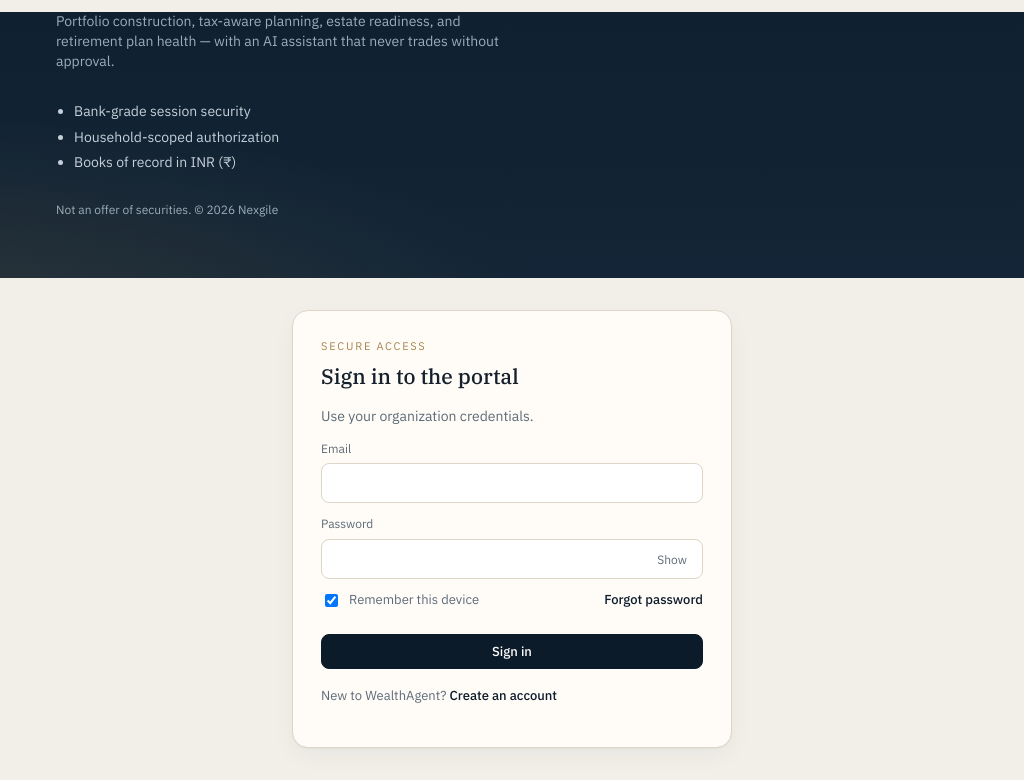
Scenario: login rendering and validation › shows a friendly error on failed login
(page scrolled)
In the field labelled "Email": (512, 484) [321, 464, 703, 504], type "a@b.com"
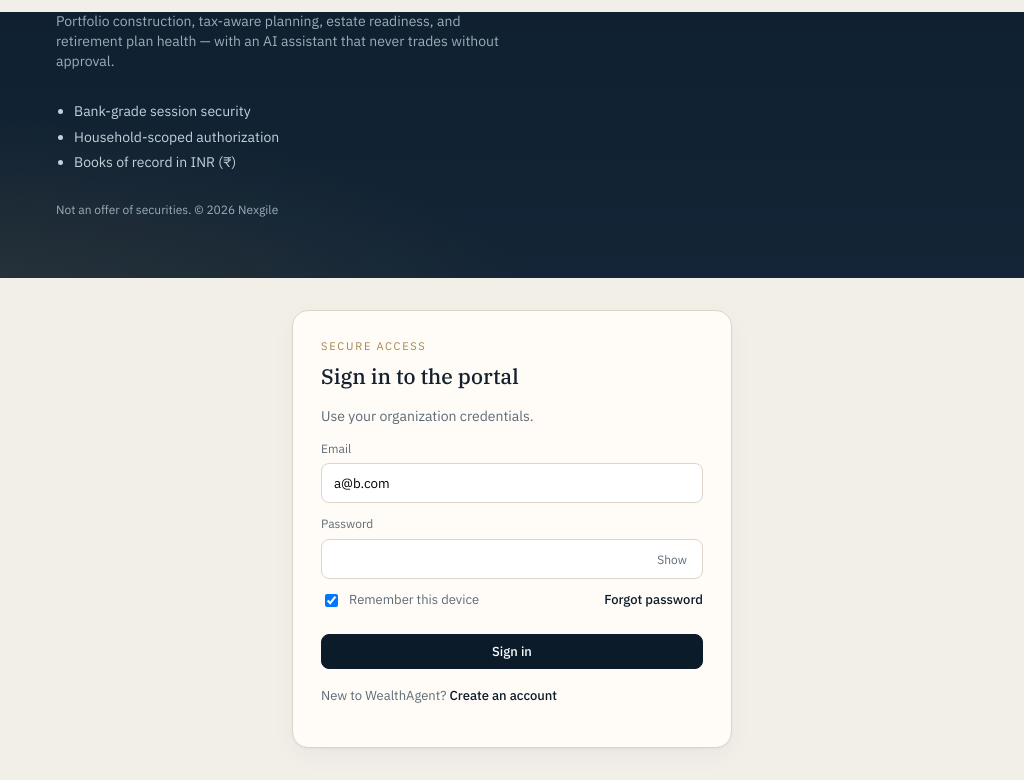
In the password field labelled "Password": (512, 559) [321, 539, 703, 579], type "nope"
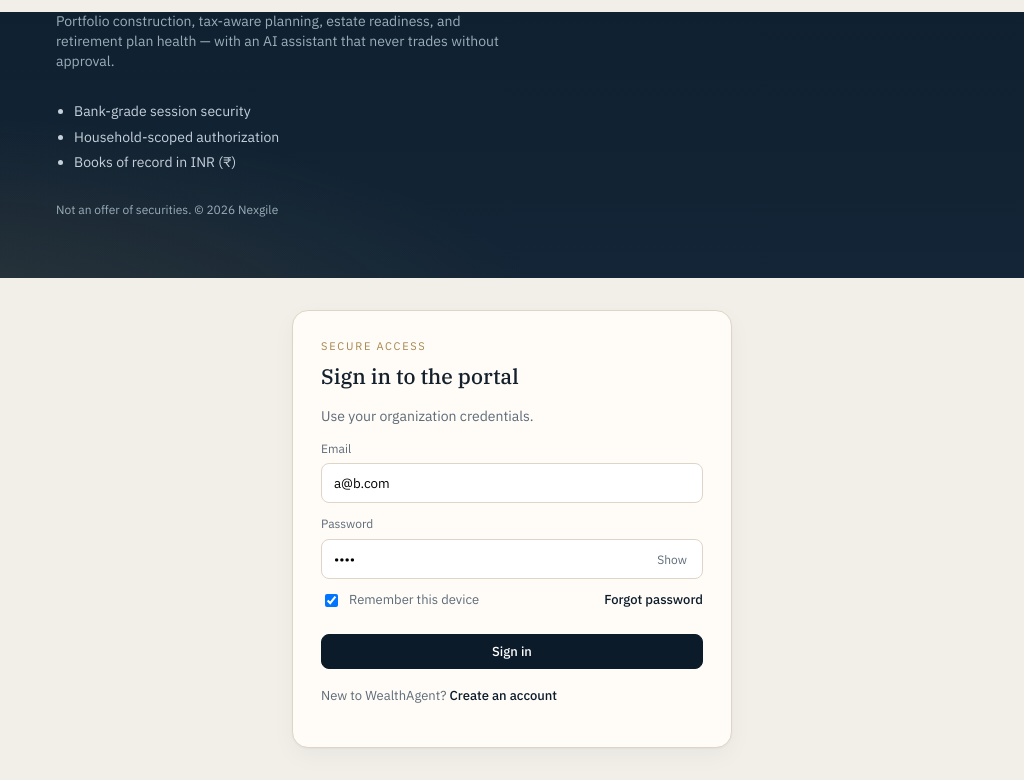
Click the button "Sign in": (512, 651) [321, 634, 703, 669]
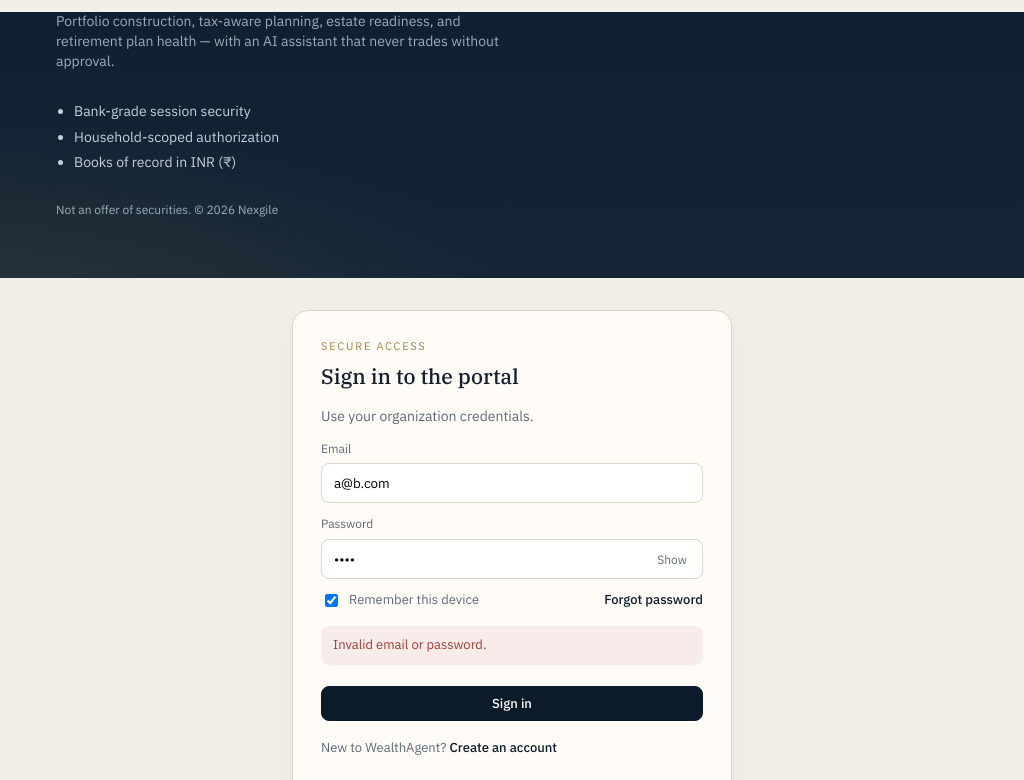
Expected: the text "Invalid email or password." is shown, [321, 626, 703, 665]
